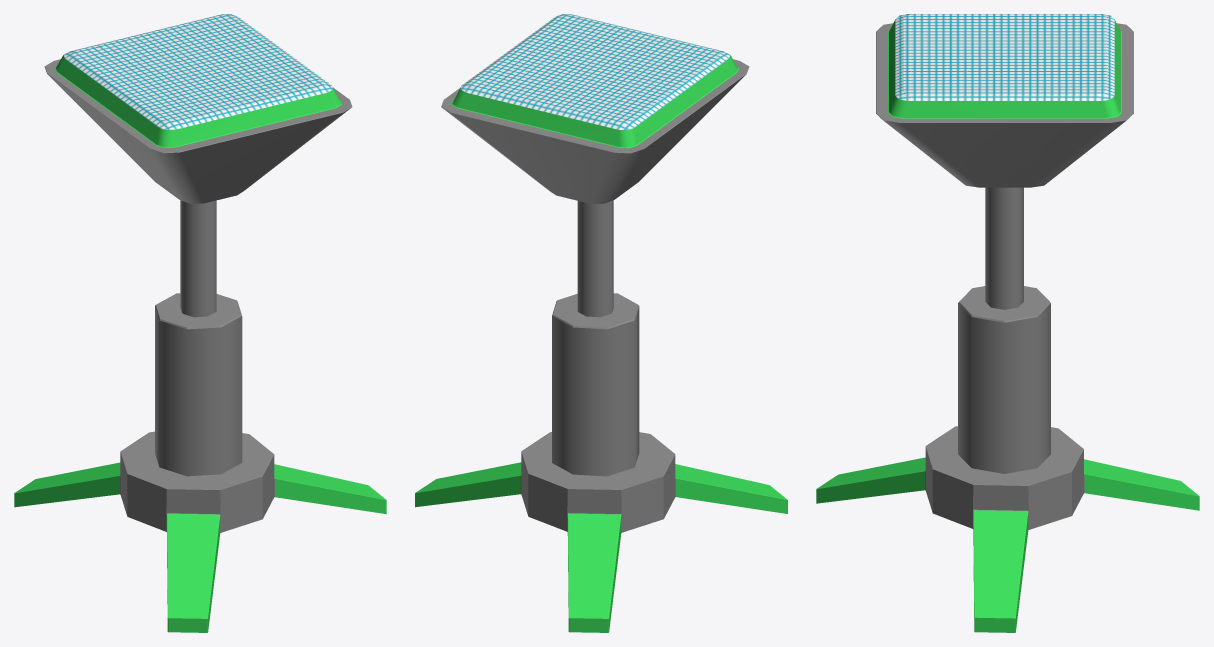
Rendered from SM_Chair_01.fbx.
3 views of the same model, side by side, from view 1: azimuth 30°, elevation 25°; view 2: azimuth 150°, elevation 25°; view 3: azimuth 270°, elevation 25° (orthographic). The views are drawn at different scales.
Visible parts, largest first — view 1: SM_Chair_01; view 2: SM_Chair_01; view 3: SM_Chair_01.
Part boxes in pixels (box(x1,y1,x2,y2)): SM_Chair_01: box(14, 14, 386, 632); SM_Chair_01: box(415, 14, 787, 632); SM_Chair_01: box(816, 14, 1199, 632).
Size of the model in its own units: 38.21 by 43.02 by 60.75.
